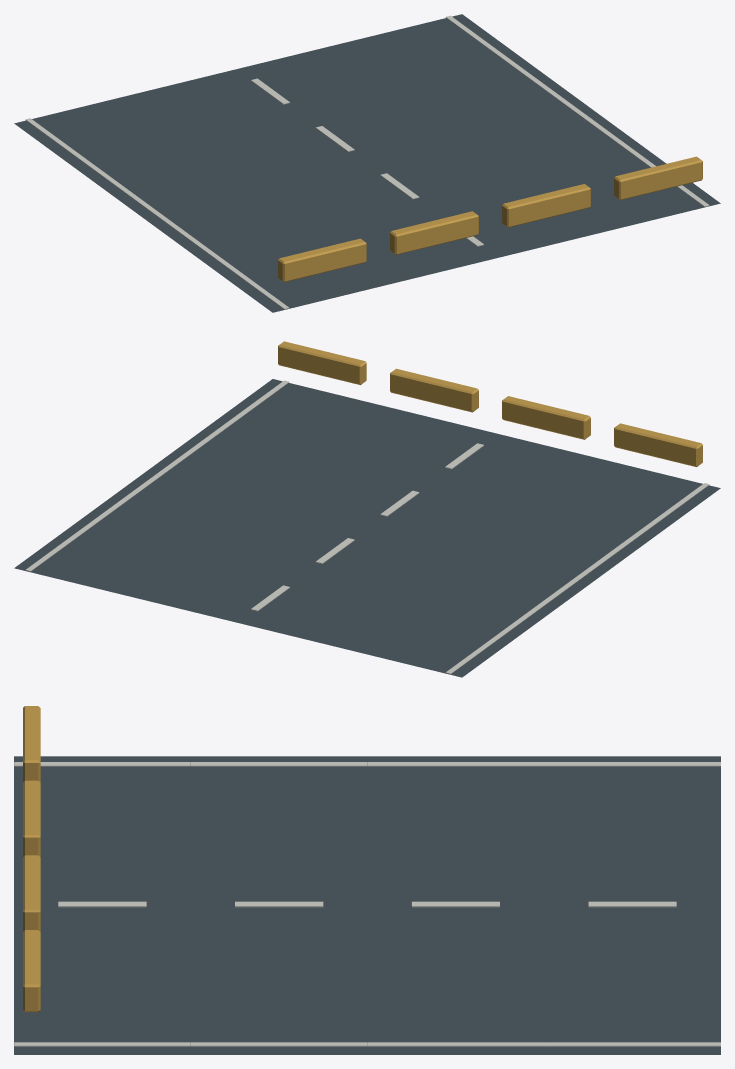
File: landscape-road-end.lod0.glb
3 renders of one model, top to bottom at view 1: azimuth 30°, elevation 25°; view 2: azimuth 150°, elevation 25°; view 3: azimuth 270°, elevation 25°, orthographic. The views are drawn at different scales.
Visible parts, largest first — view 1: landscape-road-end__body; view 2: landscape-road-end__body; view 3: landscape-road-end__body.
Boxes of the visible parts, box(x1,y1,x2,y2) form: landscape-road-end__body: box(14, 14, 720, 312); landscape-road-end__body: box(14, 341, 720, 677); landscape-road-end__body: box(14, 706, 720, 1054).
Size of the model in its own units: 8 by 0.755 by 8.
